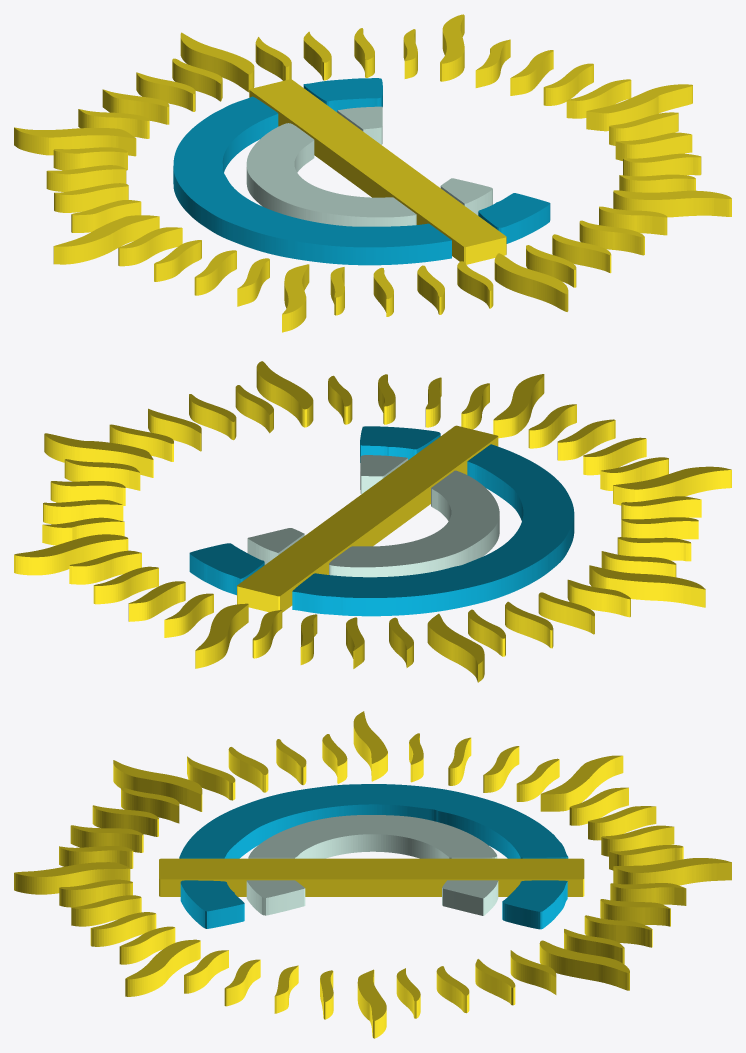
File: cci.glb
3 renders of one model, top to bottom at view 1: azimuth 30°, elevation 25°; view 2: azimuth 150°, elevation 25°; view 3: azimuth 270°, elevation 25°, orthographic. The views are drawn at different scales.
Parts seen in each view (by area): view 1: Node42, Node1, Node45, Node5, Node3, Node4, Node8, Node44, Node9, Node7, Node43, Node22 (+35 smaller); view 2: Node42, Node1, Node45, Node3, Node2, Node6, Node8, Node43, Node44, Node4, Node5, Node7 (+35 smaller); view 3: Node42, Node1, Node45, Node7, Node43, Node44, Node9, Node2, Node4, Node6, Node5, Node46 (+35 smaller).
Part boxes in pixels (left/top/right/bottom): Node42: left=173, top=96, right=451, bottom=265; Node1: left=249, top=79, right=506, bottom=264; Node45: left=246, top=123, right=416, bottom=226; Node5: left=613, top=190, right=731, bottom=217; Node3: left=53, top=215, right=159, bottom=264; Node4: left=14, top=127, right=136, bottom=156; Node8: left=586, top=84, right=692, bottom=131; Node44: left=478, top=193, right=550, bottom=243; Node9: left=494, top=253, right=568, bottom=311; Node7: left=180, top=32, right=254, bottom=92; Node43: left=303, top=78, right=382, bottom=112; Node22: left=46, top=165, right=126, bottom=191; Node42: left=292, top=444, right=574, bottom=616; Node1: left=237, top=425, right=498, bottom=612; Node45: left=329, top=470, right=499, bottom=577; Node3: left=589, top=565, right=705, bottom=607; Node2: left=14, top=534, right=128, bottom=575; Node6: left=613, top=466, right=731, bottom=505; Node8: left=44, top=433, right=153, bottom=477; Node43: left=189, top=543, right=264, bottom=595; Node44: left=360, top=426, right=440, bottom=462; Node4: left=427, top=613, right=484, bottom=682; Node5: left=256, top=361, right=313, bottom=427; Node7: left=195, top=603, right=248, bottom=668; Node42: left=179, top=784, right=568, bottom=858; Node1: left=159, top=858, right=584, bottom=896; Node45: left=248, top=815, right=497, bottom=858; Node7: left=613, top=858, right=731, bottom=885; Node43: left=502, top=880, right=567, bottom=929; Node44: left=180, top=880, right=244, bottom=928; Node9: left=14, top=862, right=130, bottom=894; Node2: left=539, top=940, right=629, bottom=990; Node4: left=540, top=755, right=623, bottom=811; Node6: left=113, top=760, right=202, bottom=811; Node5: left=125, top=939, right=200, bottom=996; Node46: left=246, top=880, right=305, bottom=915.
Size of the model in its own units: 1.89 by 0.05 by 1.85.
